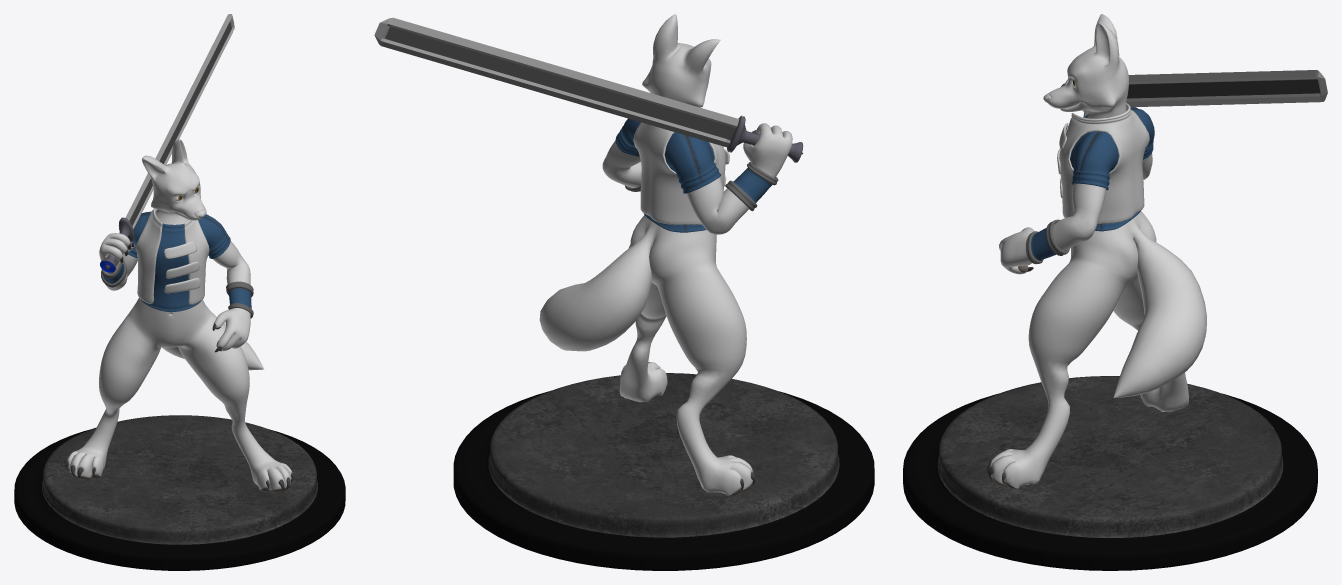
The model's file is fox.gltf.
The picture shows the model from 3 angles, left to right: view 1: azimuth 30°, elevation 25°; view 2: azimuth 150°, elevation 25°; view 3: azimuth 270°, elevation 25°; orthographic projection. The views are drawn at different scales.
Parts seen in each view (by area): view 1: Object_8, Object_4, Object_6, Object_10, Object_9, Object_11, Object_3, Object_7; view 2: Object_8, Object_4, Object_6, Object_11, Object_10, Object_9, Object_3; view 3: Object_8, Object_4, Object_6, Object_11, Object_10, Object_9, Object_3.
Boxes of the visible parts, x1,y1,x2,y2 form: Object_8: (42, 415, 317, 544); Object_4: (67, 139, 292, 490); Object_6: (14, 429, 345, 570); Object_10: (135, 208, 209, 304); Object_9: (128, 209, 230, 311); Object_11: (100, 14, 234, 269); Object_3: (101, 261, 253, 318); Object_7: (65, 242, 294, 492); Object_8: (488, 373, 839, 537); Object_4: (539, 14, 792, 495); Object_6: (453, 391, 874, 570); Object_11: (374, 17, 803, 162); Object_10: (633, 122, 729, 225); Object_9: (615, 118, 721, 232); Object_3: (625, 162, 778, 211); Object_8: (937, 376, 1283, 537); Object_4: (990, 14, 1206, 488); Object_6: (903, 393, 1317, 570); Object_11: (1061, 70, 1327, 107); Object_10: (1057, 103, 1149, 223); Object_9: (1070, 106, 1154, 231); Object_3: (1026, 219, 1070, 264).
Size of what is drawn, in the model's own units: 1029 by 1353 by 1054.
